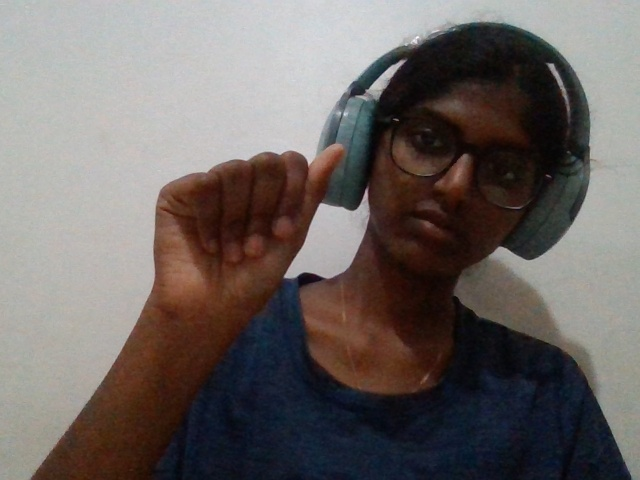A: (95, 131, 365, 377)
